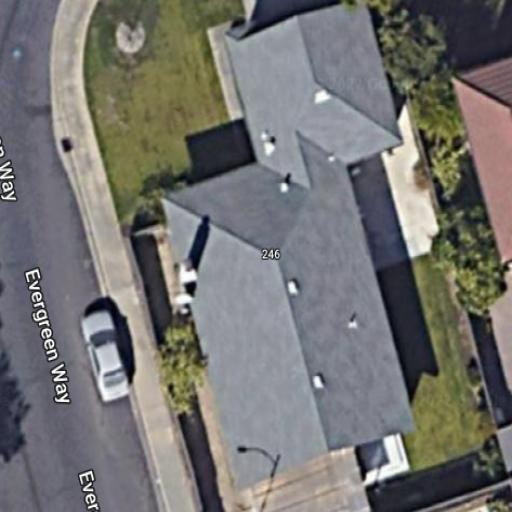Slope-Roof: (163, 2, 416, 490)
